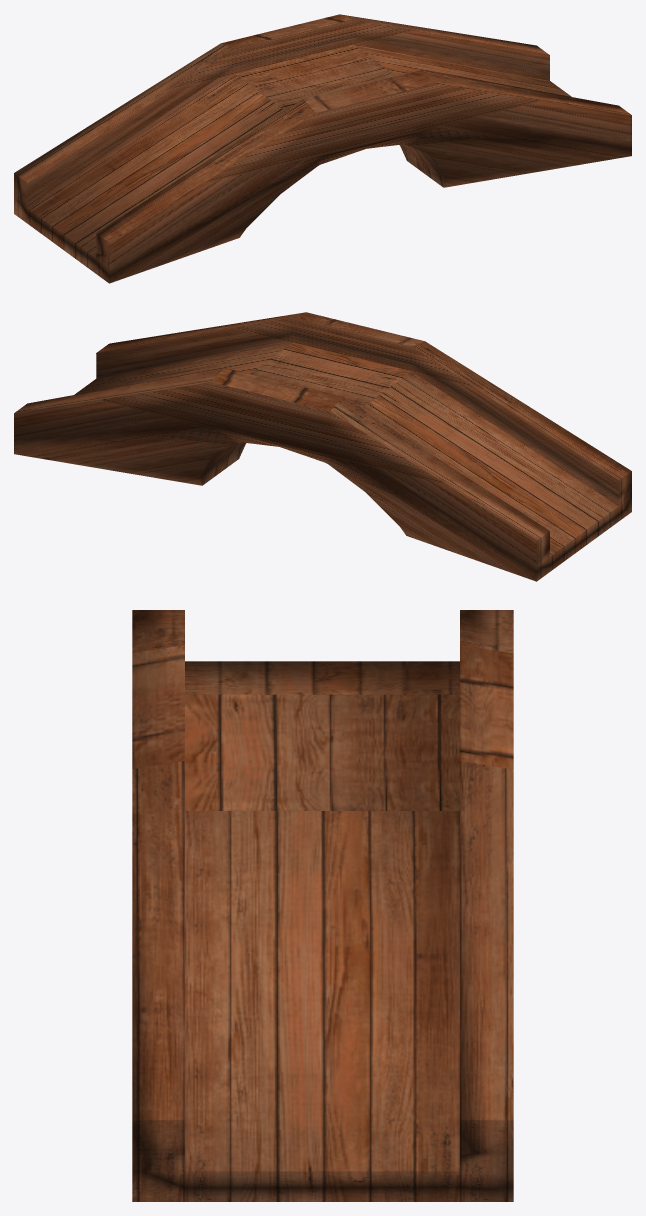
The model's file is Jembatan 1.fbx.
The picture shows the model from 3 angles, top to bottom: view 1: azimuth 30°, elevation 25°; view 2: azimuth 150°, elevation 25°; view 3: azimuth 270°, elevation 25°; orthographic projection. The views are drawn at different scales.
Parts seen in each view (by area): view 1: Cube; view 2: Cube; view 3: Cube.
Boxes of the visible parts, bbox=[...] form: Cube: bbox=[14, 14, 631, 283]; Cube: bbox=[14, 312, 631, 581]; Cube: bbox=[132, 610, 513, 1201].
Size of the model in its own units: 845 by 214 by 267.
1 material, 1 textured.
